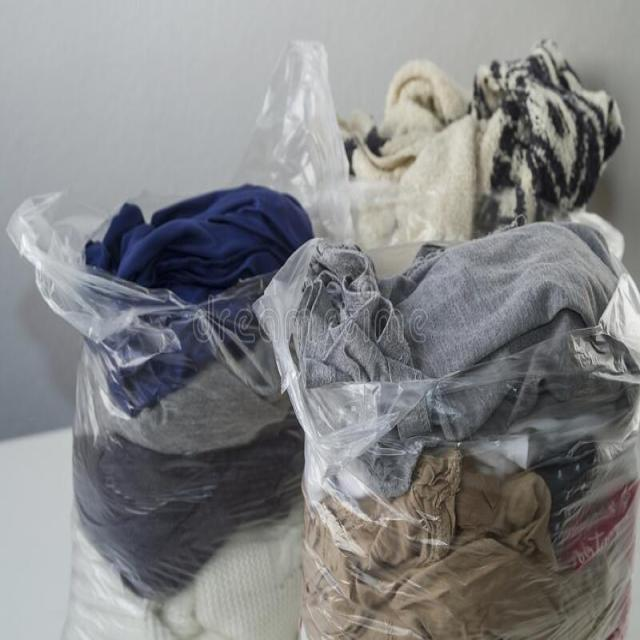clothes: (373, 106, 586, 216)
